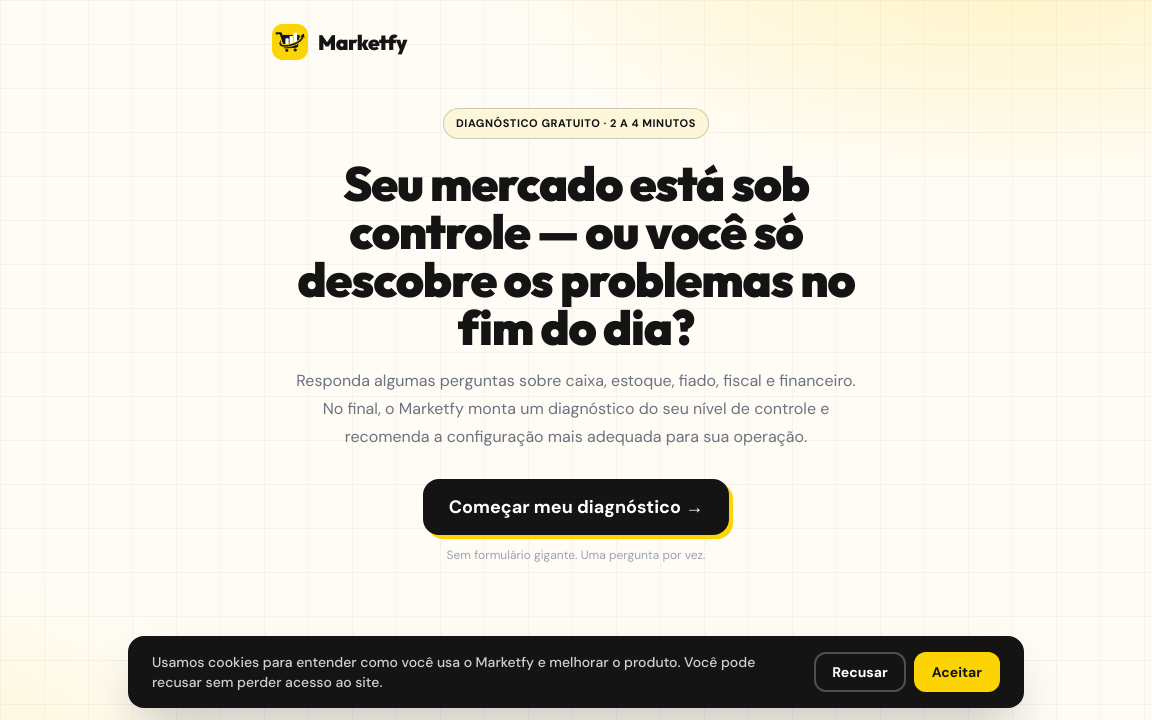
FunilDiagnostico (/funil-a) › starts the funnel and tracks the first question
Step 1. Click the button "Começar meu diagnóstico →" → (576, 506), box [423, 478, 729, 534]
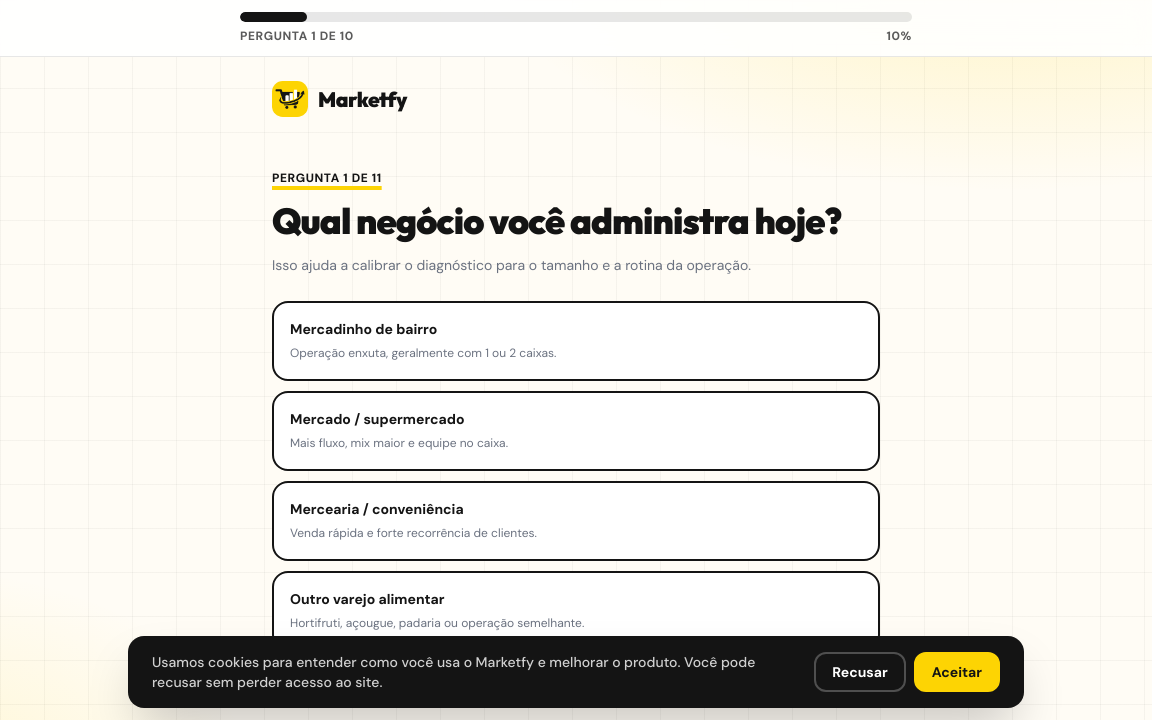
Expected: the heading "Qual negócio você administra hoje?" is shown, [272, 201, 880, 241]
